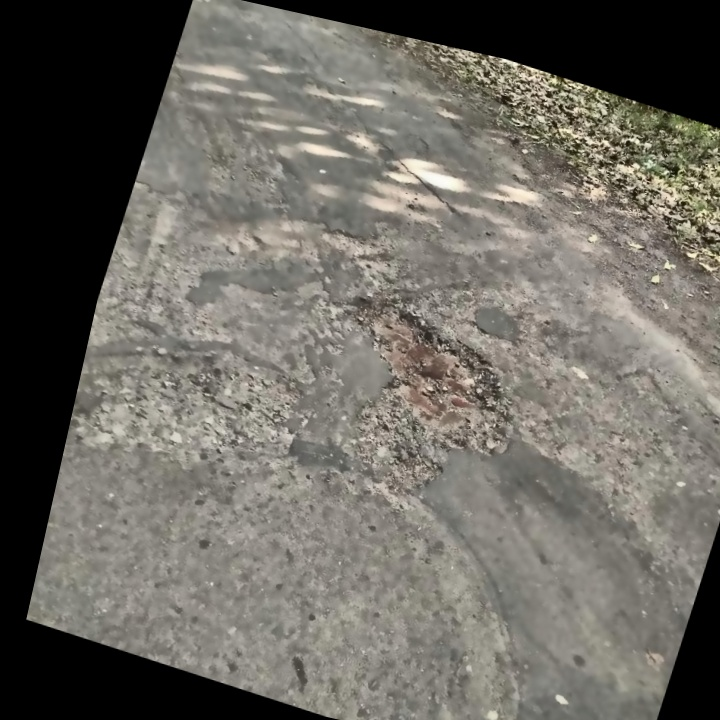pothole: (310, 282, 537, 467)
